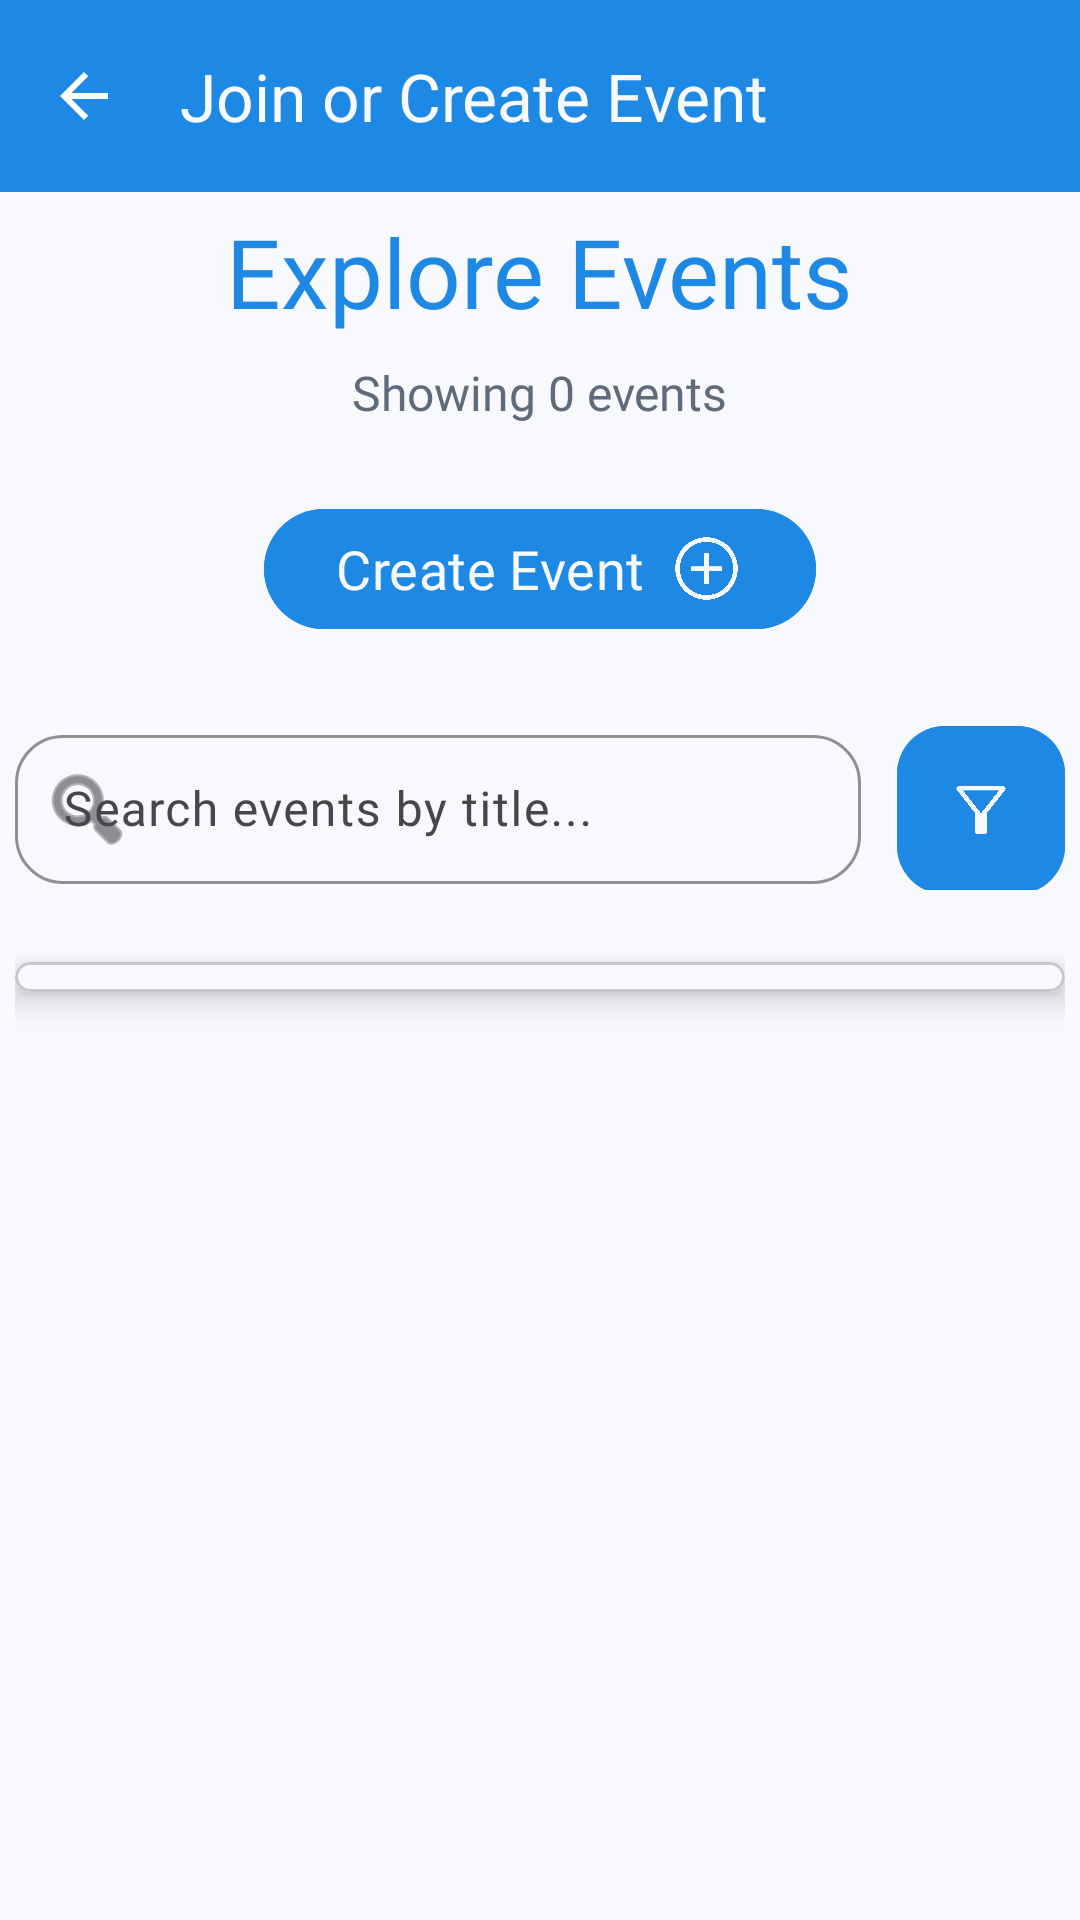

Named icons in this screenshot (1080px x 1920px) and their bounding boxes, box=[x1, y1, x2, y2]:
Filter events: box=[897, 726, 1065, 890]
